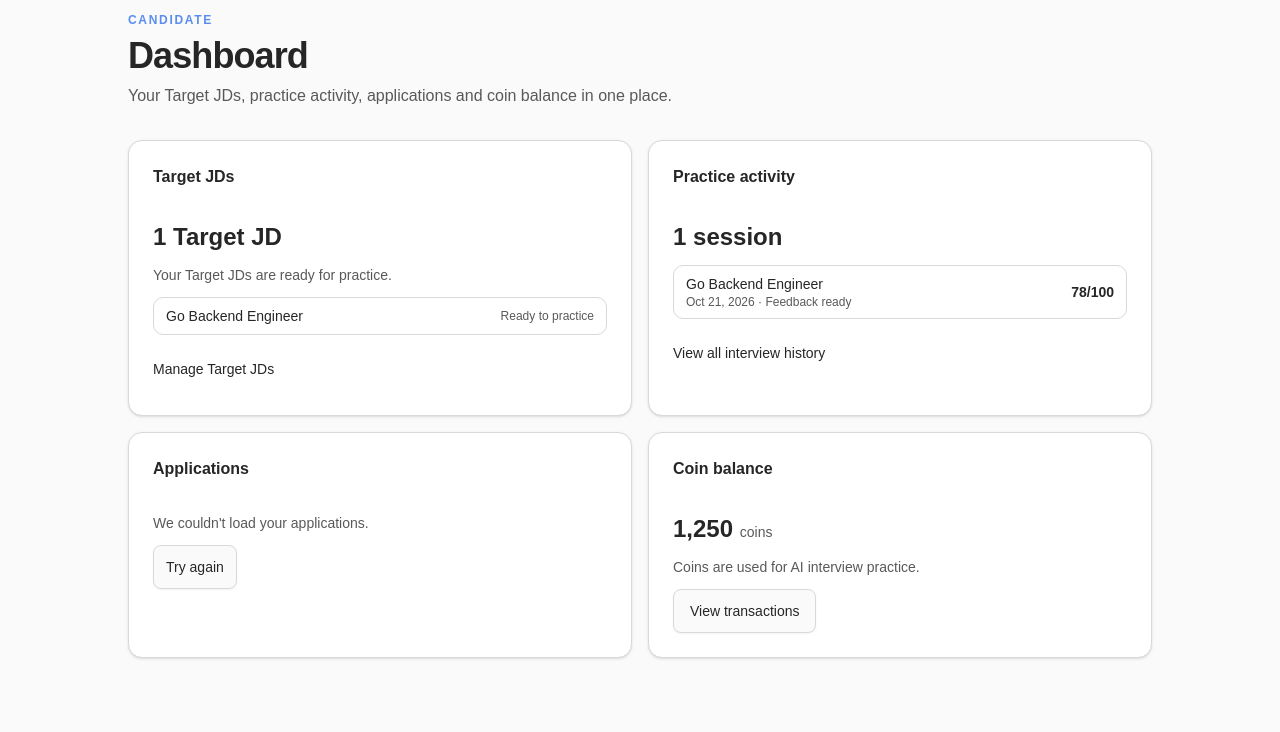
Test: DashboardOverview › retries a failed card on demand
The image size is (1280, 732).
Expected: the text "We couldn't load your applications." is shown, [153, 515, 369, 531]
Click the button "Try again": (195, 567) [153, 545, 237, 589]
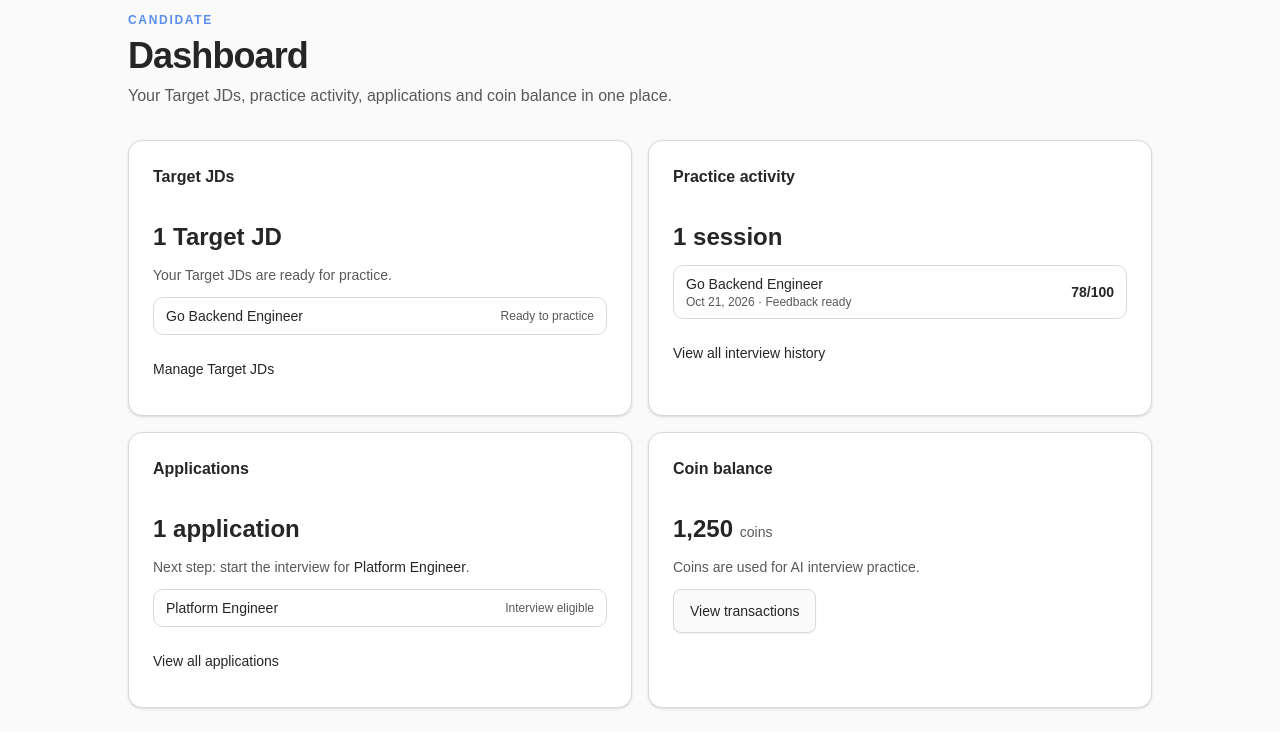
Result: the text "1 application" is shown at [153, 515, 300, 542]
